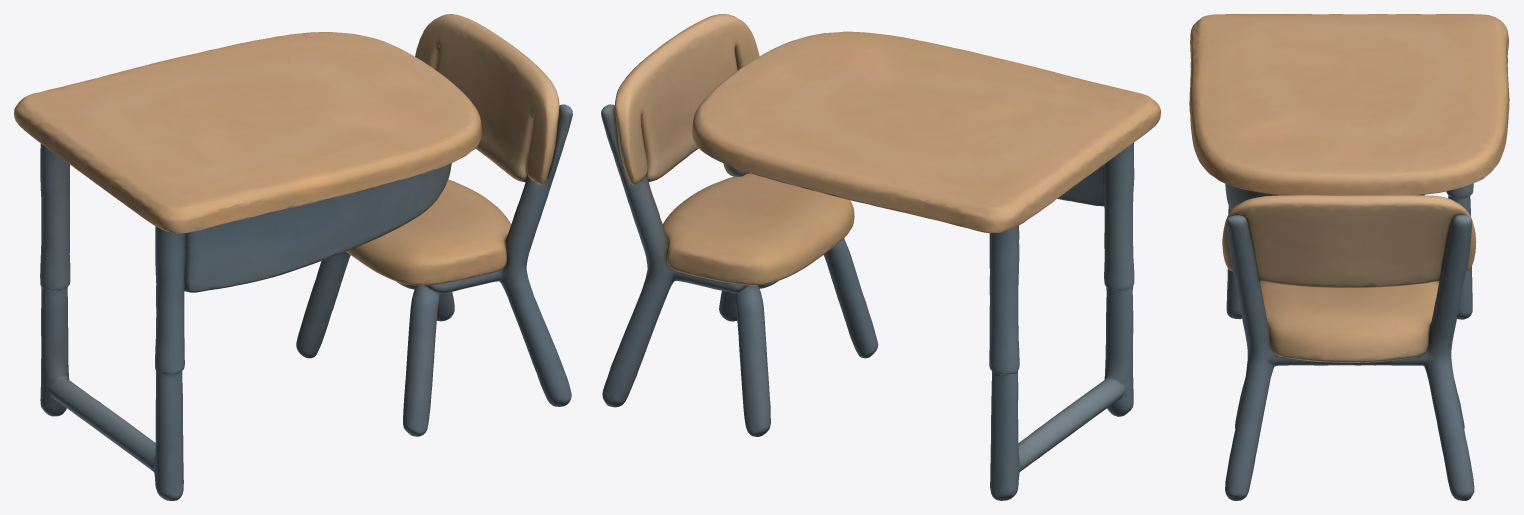
Rendered from school_desk.glb.
The picture shows the model from 3 angles, left to right: view 1: azimuth 30°, elevation 25°; view 2: azimuth 150°, elevation 25°; view 3: azimuth 270°, elevation 25°; orthographic projection. The views are drawn at different scales.
Visible parts, largest first — view 1: Mesh; view 2: Mesh; view 3: Mesh.
Part boxes in pixels (x1,y1,x2,y2): Mesh: [14, 14, 572, 500]; Mesh: [601, 14, 1160, 500]; Mesh: [1189, 14, 1509, 500].
Bounding box in the file's own units: 1.9 × 1.35 × 1.28.
1 material, 1 textured.
